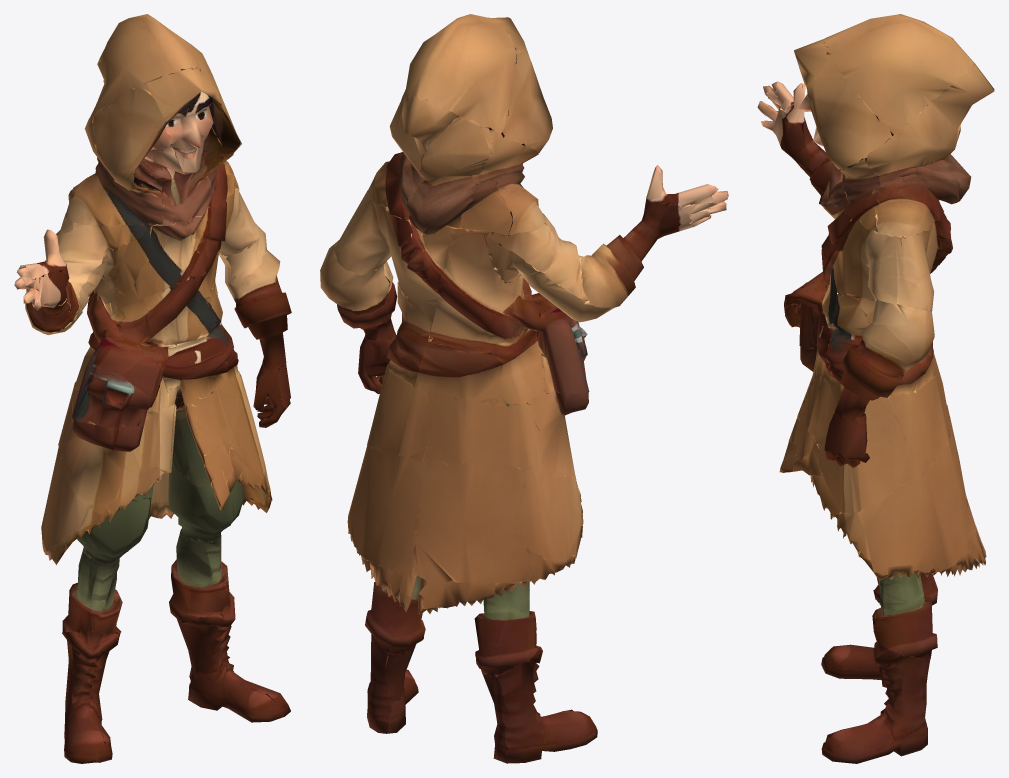
Rendered from traveler_static.glb.
3 renders of one model, left to right at view 1: azimuth 30°, elevation 25°; view 2: azimuth 150°, elevation 25°; view 3: azimuth 270°, elevation 25°, orthographic. The views are drawn at different scales.
Parts seen in each view (by area): view 1: Mesh_0; view 2: Mesh_0; view 3: Mesh_0.
Part boxes in pixels (box(x1,y1,x2,y2)): Mesh_0: box(14, 14, 291, 763); Mesh_0: box(320, 14, 728, 763); Mesh_0: box(757, 14, 994, 763).
Size of the model in its own units: 0.9245 by 1.9 by 0.5832.
1 material, 1 textured.
